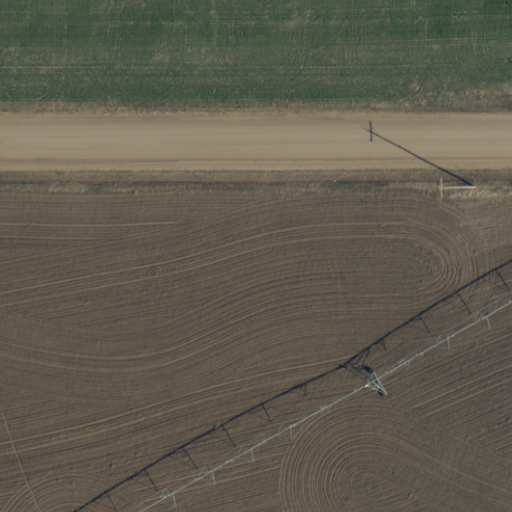DT: (432, 170, 479, 207)
